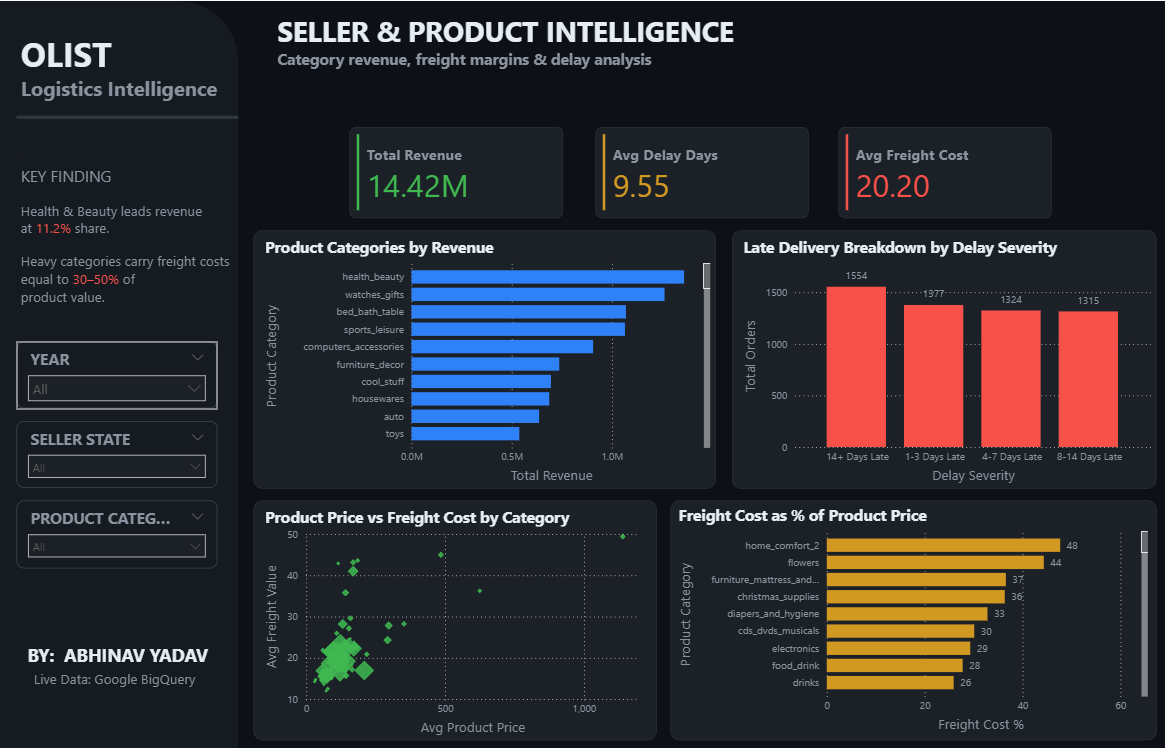

Layout of this report page (visuals, bound fields, positions):
{"tool":"powerbi","page":{"name":"Page 2","canvas":[1400,900],"ordinal":1},"visuals":[{"type":"shape","box":[0,0,285.2,899.1],"z":0},{"type":"textbox","title":"OLIST","box":[20.7,35.1,188.1,59.9],"z":1000},{"type":"textbox","title":"Logistics Intelligence","box":[19.8,88.1,266.1,39.5],"z":2000},{"type":"shape","box":[19.8,127.6,266.1,23.4],"z":3000},{"type":"textbox","title":".","box":[19.8,172.6,266.1,206.7],"z":4000},{"type":"slicer","fields":{"Values":["vw_fact_analytics.year"]},"box":[20,408.1,240.6,80],"z":5000},{"type":"slicer","fields":{"Values":["dim_sellers.seller_state"]},"box":[20,503.1,240.6,80],"z":6000},{"type":"slicer","fields":{"Values":["dim_products.category"]},"box":[20,597.9,240.5,81.1],"z":7000},{"type":"textbox","box":[25,797,224.7,44.9],"z":8000},{"type":"textbox","box":[23.4,764,235.5,43.1],"z":9000},{"type":"textbox","title":"SELLER & PRODUCT INTELLIGENCE","box":[327.2,12.6,1058.8,127.6],"z":10000},{"type":"cardVisual","fields":{"Data":["Sum(vw_fact_analytics.total_order_value)"]},"box":[418.9,151,256,109.7],"z":13000},{"type":"cardVisual","fields":{"Data":["Avg(vw_fact_analytics.freight_value)"]},"box":[1004.9,151,255.3,109.7],"z":14000},{"type":"cardVisual","fields":{"Data":["Avg(vw_fact_analytics.delay_days)"]},"box":[713.7,151,255.3,109.7],"z":15000},{"type":"clusteredBarChart","title":"Product Categories by Revenue","fields":{"Category":["dim_products.category"],"Y":["Sum(vw_fact_analytics.total_order_value)"]},"box":[303.8,275,553.7,309.2],"z":16000},{"type":"scatterChart","title":"Product Price vs Freight Cost by Category","fields":{"X":["Avg(vw_fact_analytics.product_price)"],"Category":["dim_products.category"],"Y":["Avg(vw_fact_analytics.freight_value)"],"Size":["vw_fact_analytics.Total Orders"]},"box":[303.8,598.6,483.6,287.6],"z":17000},{"type":"clusteredBarChart","title":"Freight Cost as % of Product Price","fields":{"Category":["dim_products.category"],"Y":["vw_fact_analytics.Freight Pct of Price"]},"box":[803.5,598.6,582.4,287.6],"z":18000},{"type":"clusteredColumnChart","title":"Late Delivery Breakdown by Delay Severity","fields":{"Category":["vw_fact_analytics.delay_bucket"],"Y":["vw_fact_analytics.Total Orders"]},"box":[877.2,275,508.7,309.2],"z":19000},{"type":"textbox","box":[329,83,952,50],"z":19001}]}

Visuals, with their boxes in screenshot pixels (x1, y1, x2, y2), scaled from the page's 1400x900 canvas onto the 1165x748 screenshot:
shape: (left=0, top=0, right=237, bottom=747)
"OLIST" textbox: (left=17, top=29, right=174, bottom=79)
"Logistics Intelligence" textbox: (left=16, top=73, right=238, bottom=106)
shape: (left=16, top=106, right=238, bottom=125)
"." textbox: (left=16, top=143, right=238, bottom=315)
slicer - vw_fact_analytics.year: (left=17, top=339, right=217, bottom=406)
slicer - dim_sellers.seller_state: (left=17, top=418, right=217, bottom=485)
slicer - dim_products.category: (left=17, top=497, right=217, bottom=564)
textbox: (left=21, top=662, right=208, bottom=700)
textbox: (left=19, top=635, right=215, bottom=671)
"SELLER & PRODUCT INTELLIGENCE" textbox: (left=272, top=10, right=1153, bottom=117)
cardVisual - Sum(vw_fact_analytics.total_order_value): (left=349, top=125, right=562, bottom=217)
cardVisual - Avg(vw_fact_analytics.freight_value): (left=836, top=125, right=1049, bottom=217)
cardVisual - Avg(vw_fact_analytics.delay_days): (left=594, top=125, right=806, bottom=217)
"Product Categories by Revenue" clusteredBarChart: (left=253, top=229, right=714, bottom=486)
"Product Price vs Freight Cost by Category" scatterChart: (left=253, top=498, right=655, bottom=737)
"Freight Cost as % of Product Price" clusteredBarChart: (left=669, top=498, right=1153, bottom=737)
"Late Delivery Breakdown by Delay Severity" clusteredColumnChart: (left=730, top=229, right=1153, bottom=486)
textbox: (left=274, top=69, right=1066, bottom=111)
